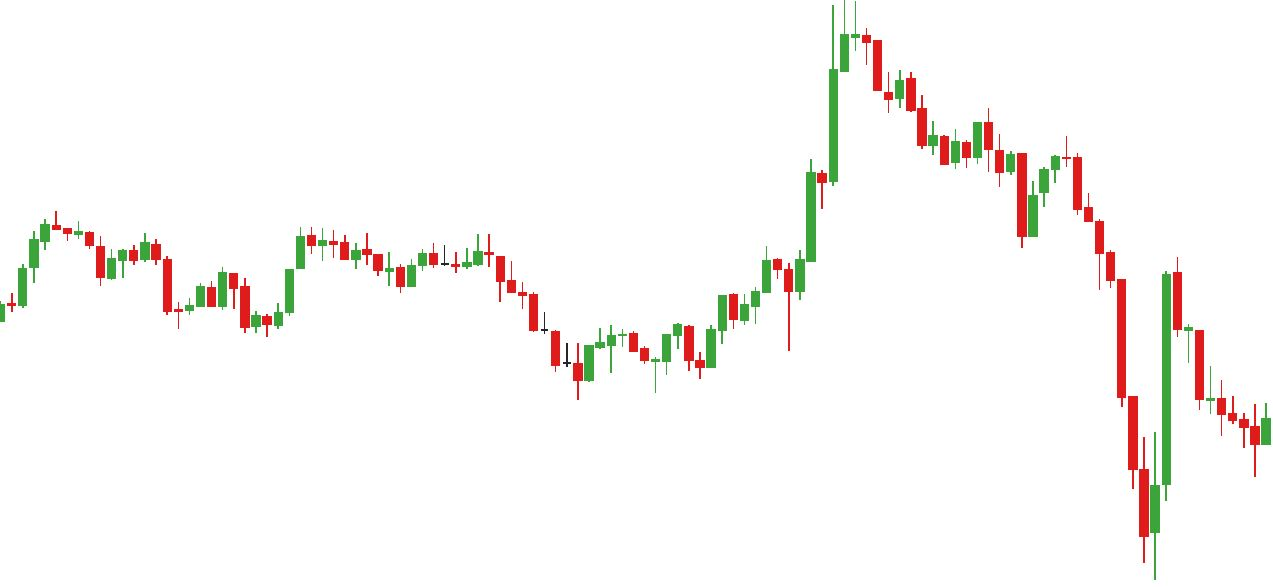buy: (170, 283, 261, 340)
